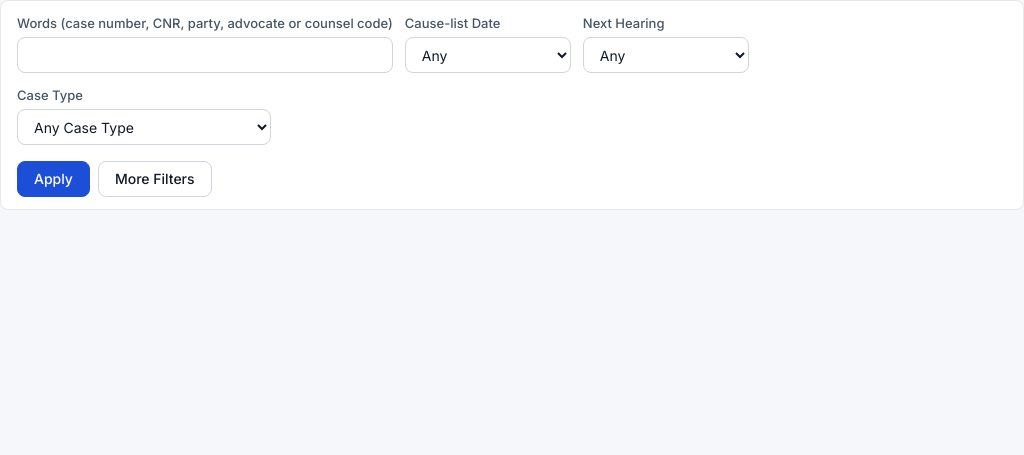
Test: FilterBar (portal-filters, decision 9) › validation errors are linked to their fields and block the request
In the field labelled "Words (case number, CNR, party, advocate or counsel code)": (205, 55) left=17, top=37, right=393, bottom=73, type "ab"
Select "Between Dates" in the dropdown labelled "Next Hearing": (666, 55) left=583, top=37, right=749, bottom=73
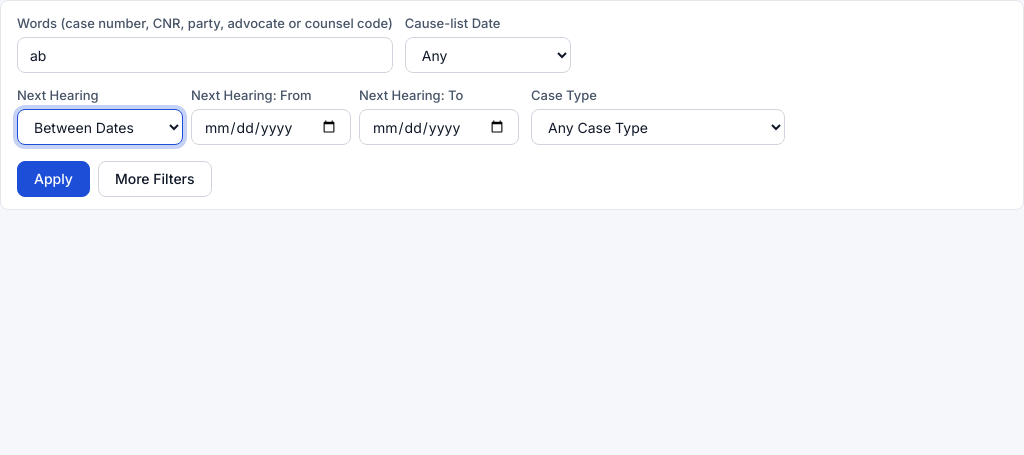
In the date field labelled "Next Hearing: From": (271, 127) left=191, top=109, right=351, bottom=145, type "2026-11-02"
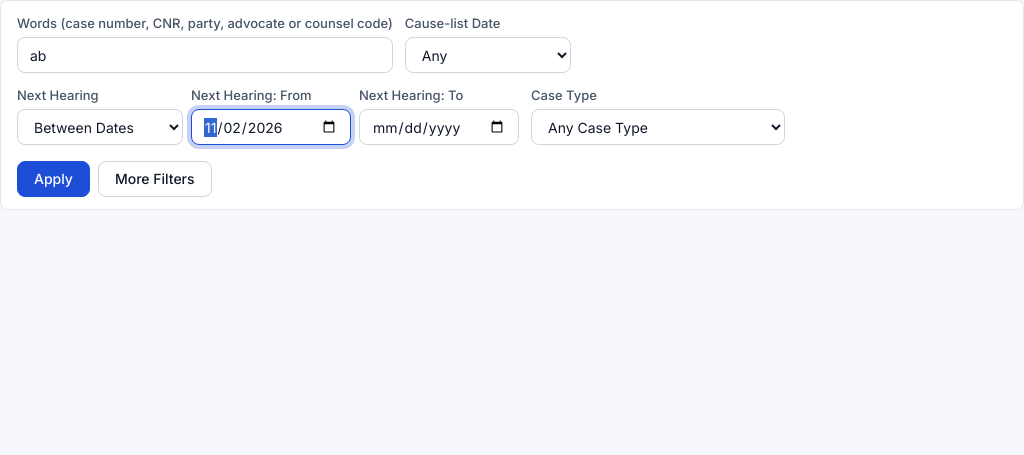
In the date field labelled "Next Hearing: To": (439, 127) left=359, top=109, right=519, bottom=145, type "2026-11-01"
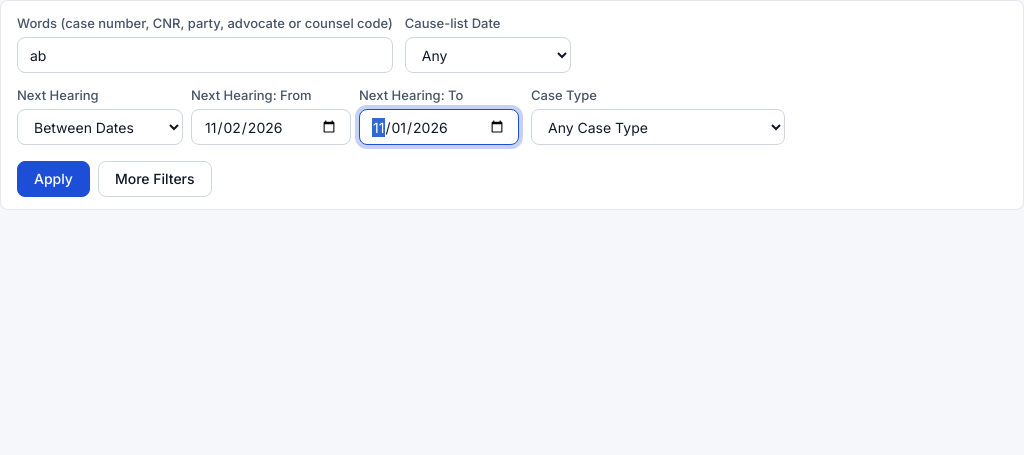
Click the button "More Filters": (155, 179) left=98, top=161, right=212, bottom=197
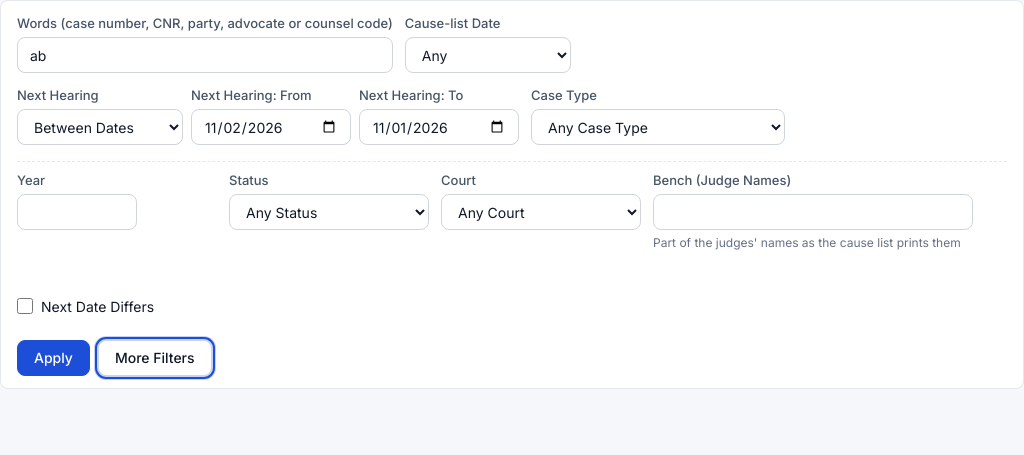
In the field labelled "Year": (77, 212) left=17, top=194, right=137, bottom=230, type "202"
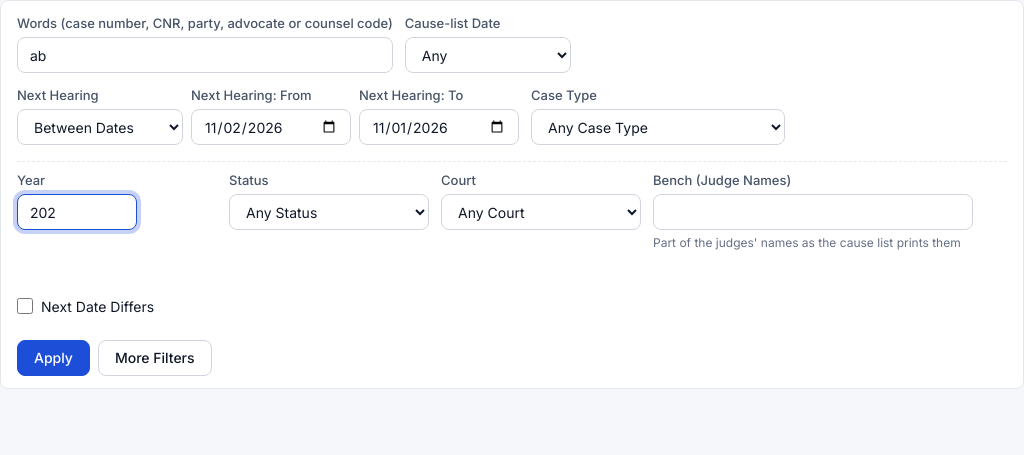
Click the button "Apply": (53, 358) left=17, top=340, right=90, bottom=376
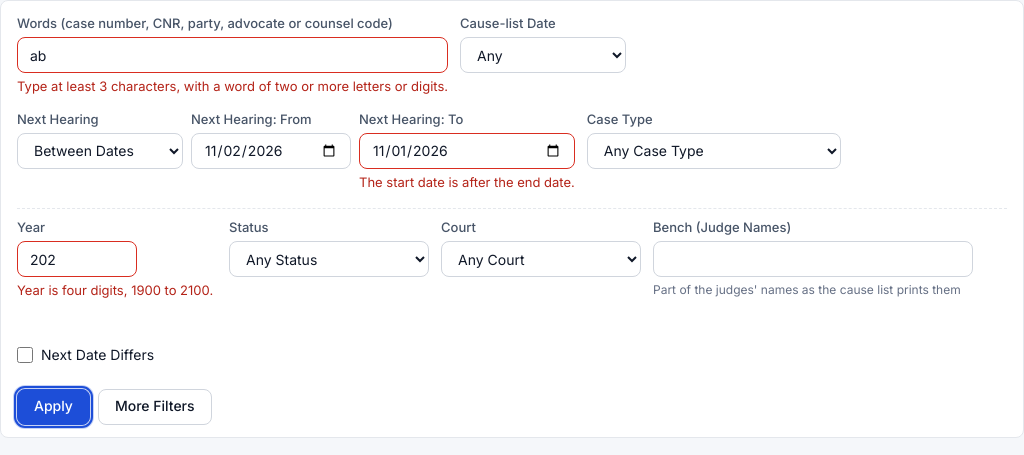
Expected: the message "Year is four digits, 1900 to 2100." is shown, left=17, top=281, right=217, bottom=300
Expected: the message "The start date is after the end date." is shown, left=359, top=172, right=575, bottom=192
